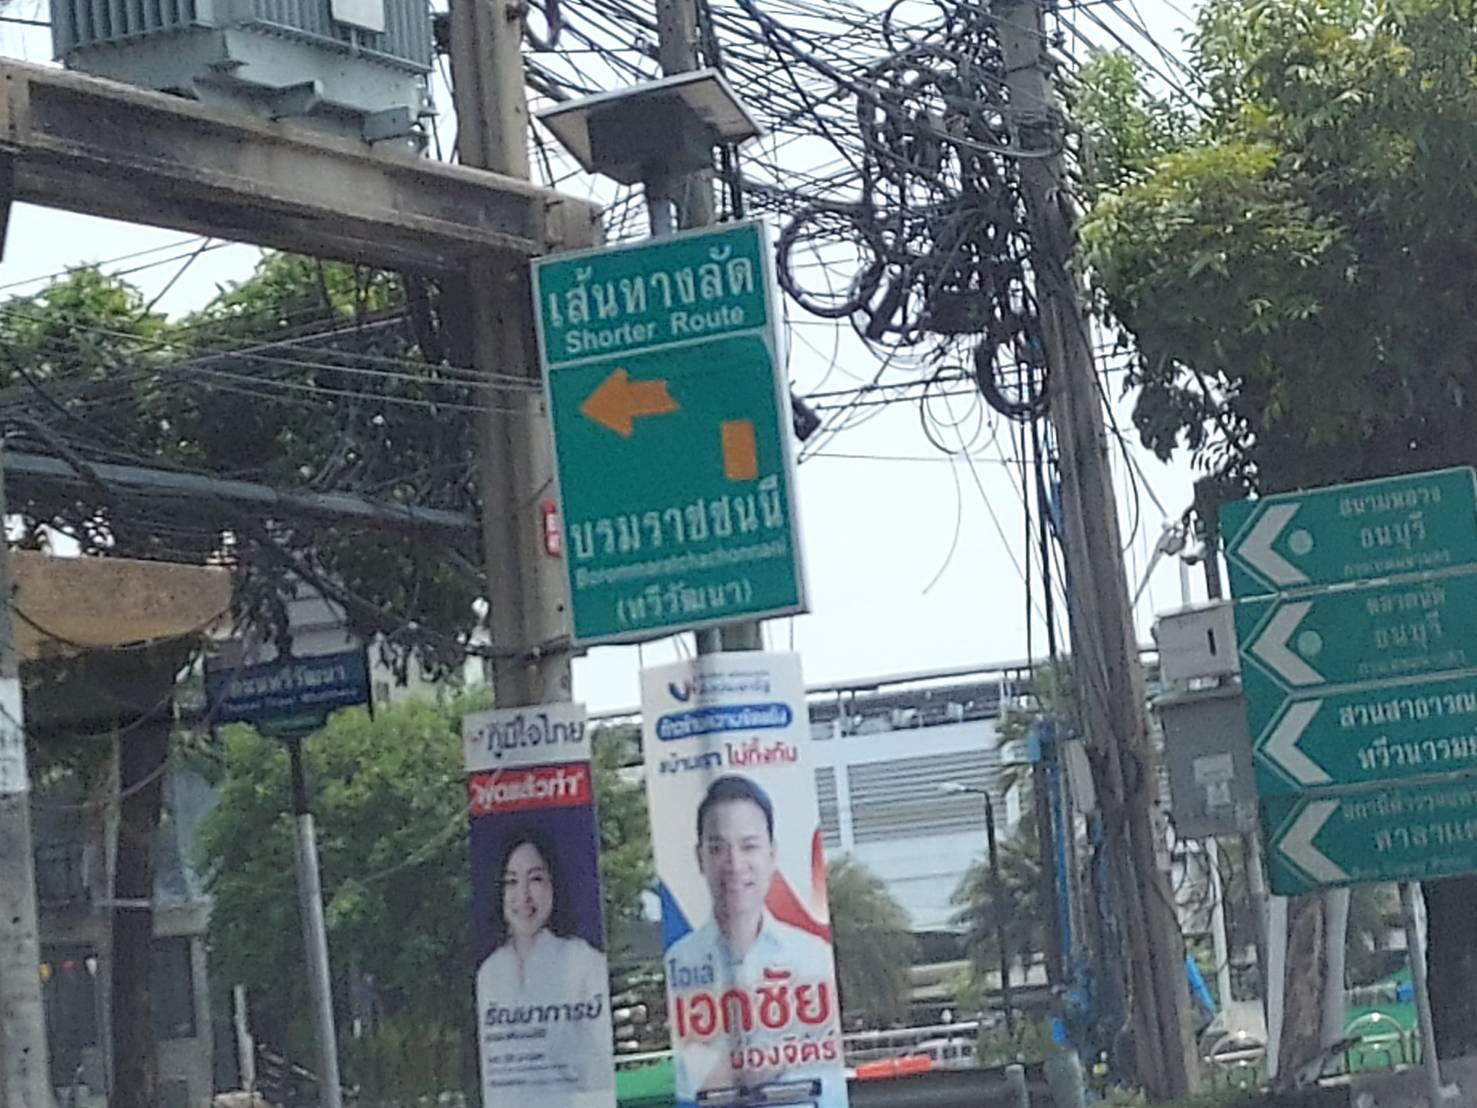Banner: (635, 655, 852, 1108), (450, 697, 622, 1108)
